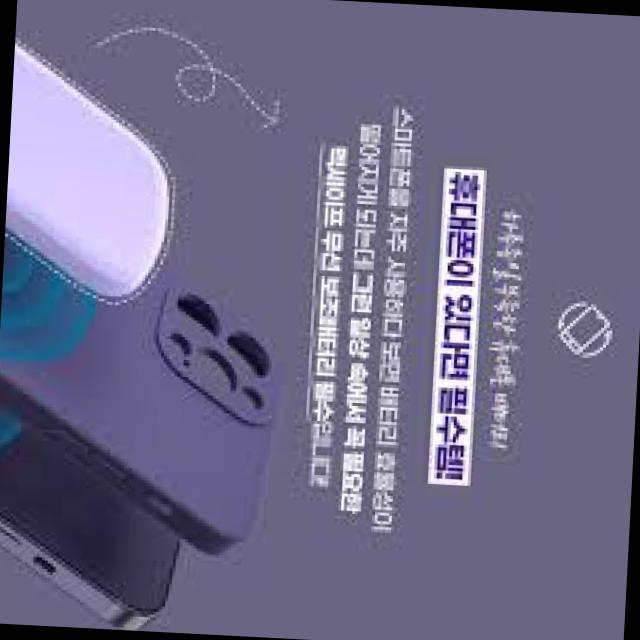power_bank: (1, 45, 186, 306)
